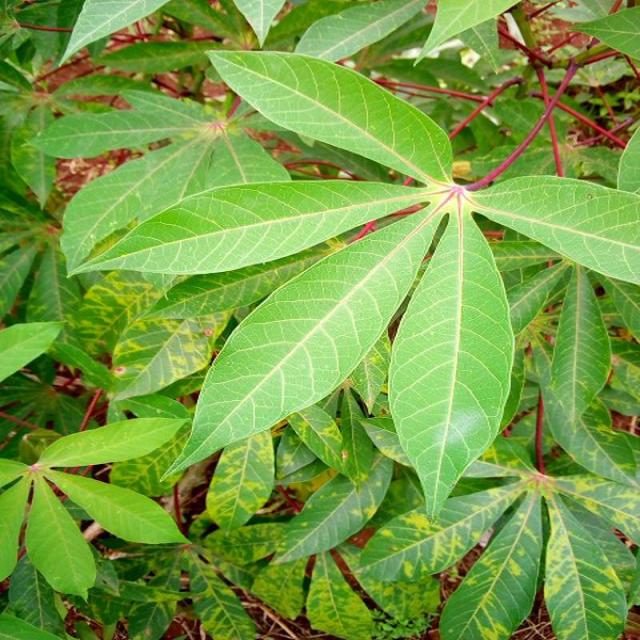cassava leaf: (158, 198, 437, 487), (386, 193, 516, 521), (204, 48, 454, 188)
